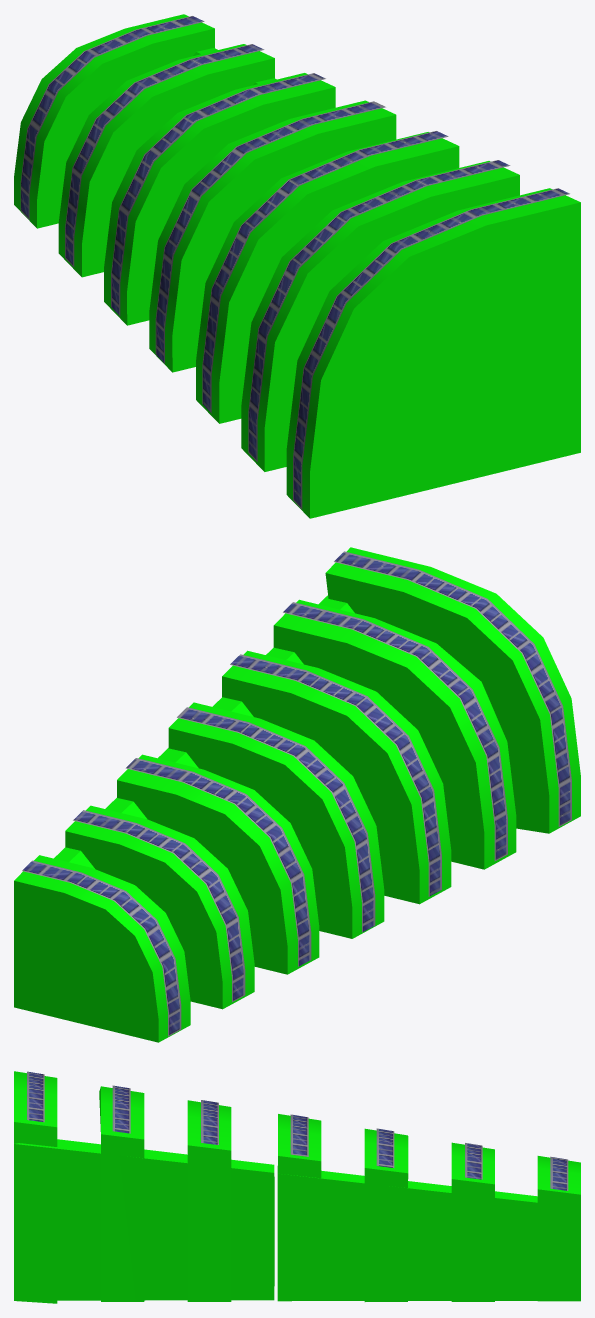
The model's file is building_13s_01.FBX.
3 renders of one model, top to bottom at view 1: azimuth 30°, elevation 25°; view 2: azimuth 150°, elevation 25°; view 3: azimuth 270°, elevation 25°, orthographic. The views are drawn at different scales.
Visible parts, largest first — view 1: building_13s_01; view 2: building_13s_01; view 3: building_13s_01.
Part boxes in pixels (left/top/right/bottom): building_13s_01: left=14, top=14, right=580, bottom=518; building_13s_01: left=14, top=547, right=580, bottom=1042; building_13s_01: left=14, top=1071, right=580, bottom=1303.
Size of the model in its own units: 20.63 by 19.81 by 52.25.
